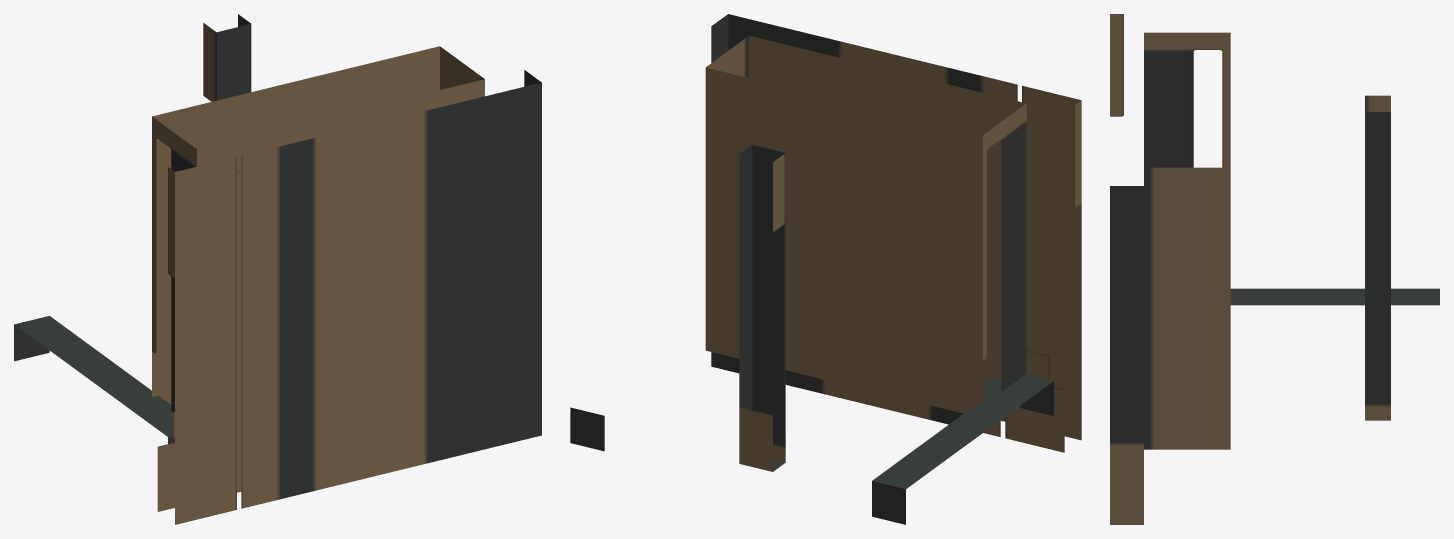
Rendered from section-5.obj.
3 renders of one model, left to right at view 1: azimuth 30°, elevation 25°; view 2: azimuth 150°, elevation 25°; view 3: azimuth 270°, elevation 25°, orthographic. The views are drawn at different scales.
Size of the model in its own units: 0.963 by 0.8856 by 0.7804.
